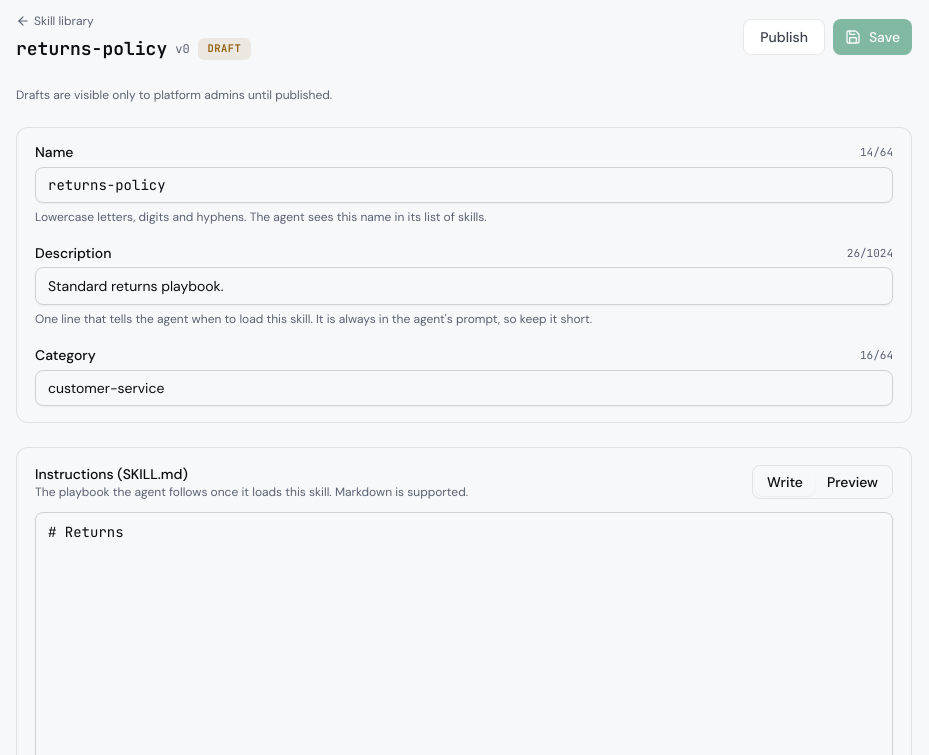
Test: LibrarySkillEditor › disables Publish while there are unsaved edits
The width and height of the screenshot is (929, 755).
Check: the field showing "returns-policy" is shown, box [35,166,893,202]
Check: the button "Publish" is enabled, box [743,19,825,55]
Replace the text in the text box labelled "Description" with "Edited playbook." at point(464, 286), box [35,267,893,305]
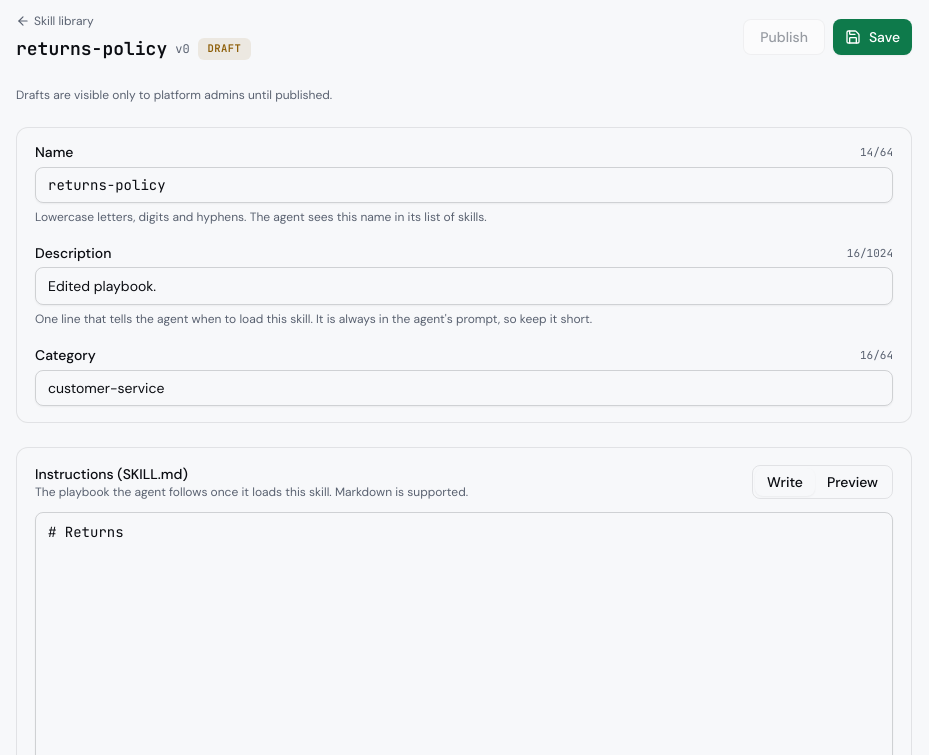
Check: the button "Publish" is disabled, box [743,19,825,55]
